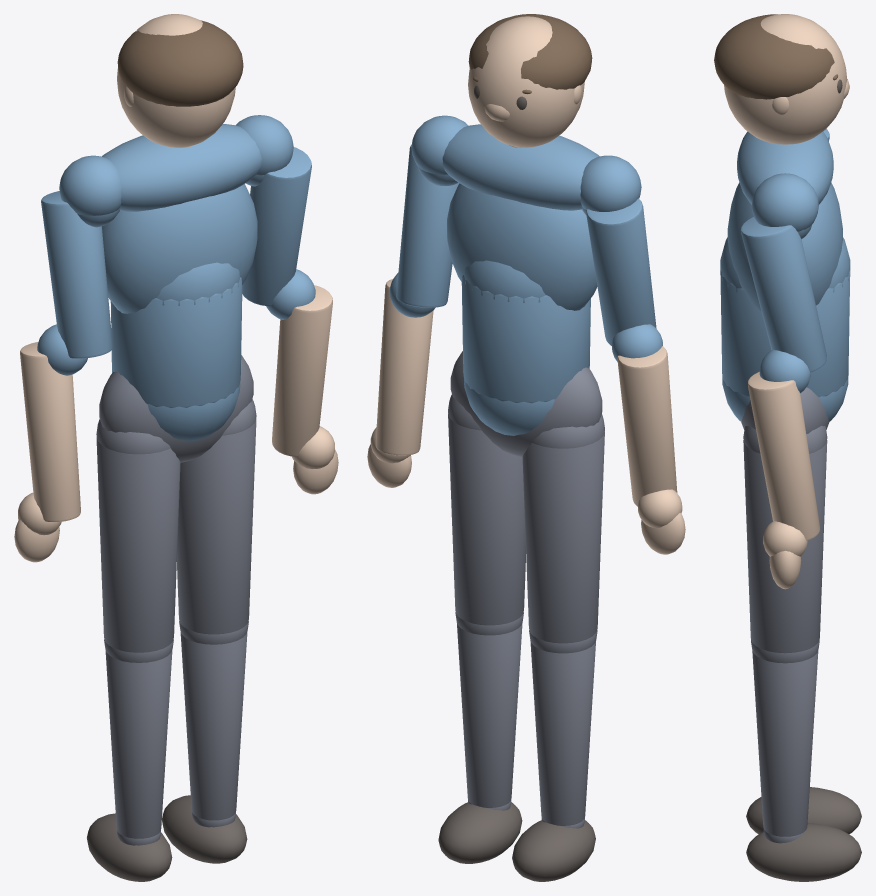
File: th30_mensch_mann.glb
3 views of the same model, side by side, from view 1: azimuth 30°, elevation 25°; view 2: azimuth 150°, elevation 25°; view 3: azimuth 270°, elevation 25° (orthographic).
Visible parts, largest first — view 1: Cone.006, Cone.008, Cone, Sphere, Cone.009, Cone.007, Sphere.004, Cone.002, Sphere.011, Cone.003, Cone.005, Cone.004 (+17 smaller); view 2: Cone.006, Cone.008, Cone, Sphere, Cone.007, Cone.009, Sphere.007, Sphere.004, Cone.005, Cone.002, Cone.003, Cone.004 (+15 smaller); view 3: Cone.009, Cone.008, Cone.004, Cone.005, Cone, Sphere.007, Sphere.011, Sphere, Sphere.037, Sphere.004, Sphere.022, Sphere.032 (+8 smaller).
Part boxes in pixels (box(x1,y1,x2,y2)): Cone.006: box(96, 437, 180, 652); Cone.008: box(177, 419, 256, 634); Cone: box(110, 277, 242, 407); Sphere: box(102, 184, 257, 313); Cone.009: box(180, 632, 247, 820); Cone.007: box(105, 650, 172, 838); Sphere.004: box(102, 124, 261, 211); Cone.002: box(41, 191, 112, 358); Sphere.011: box(117, 20, 243, 106); Cone.003: box(20, 342, 80, 522); Cone.005: box(272, 285, 332, 456); Cone.004: box(242, 147, 311, 306); Cone.006: box(522, 431, 604, 643); Cone.008: box(448, 413, 525, 625); Cone: box(461, 275, 590, 403); Sphere: box(447, 183, 597, 310); Cone.007: box(530, 640, 596, 825); Cone.009: box(456, 622, 522, 807); Sphere.007: box(468, 16, 584, 147); Sphere.004: box(442, 124, 599, 210); Cone.005: box(375, 279, 433, 455); Cone.002: box(586, 198, 656, 345); Cone.003: box(617, 346, 677, 506); Cone.004: box(396, 144, 459, 307); Cone.009: box(752, 650, 818, 836); Cone.008: box(743, 440, 827, 653); Cone.004: box(741, 216, 826, 372); Cone.005: box(748, 371, 819, 540); Cone: box(720, 270, 850, 397); Sphere.007: box(724, 14, 847, 144); Sphere.011: box(714, 14, 834, 99); Sphere: box(727, 182, 842, 311); Sphere.037: box(746, 823, 861, 881); Sphere.004: box(737, 131, 833, 204); Sphere.022: box(751, 173, 818, 231); Sphere.032: box(746, 787, 861, 834).
Size of the model in its own units: 0.7056 by 1.79 by 0.285.
